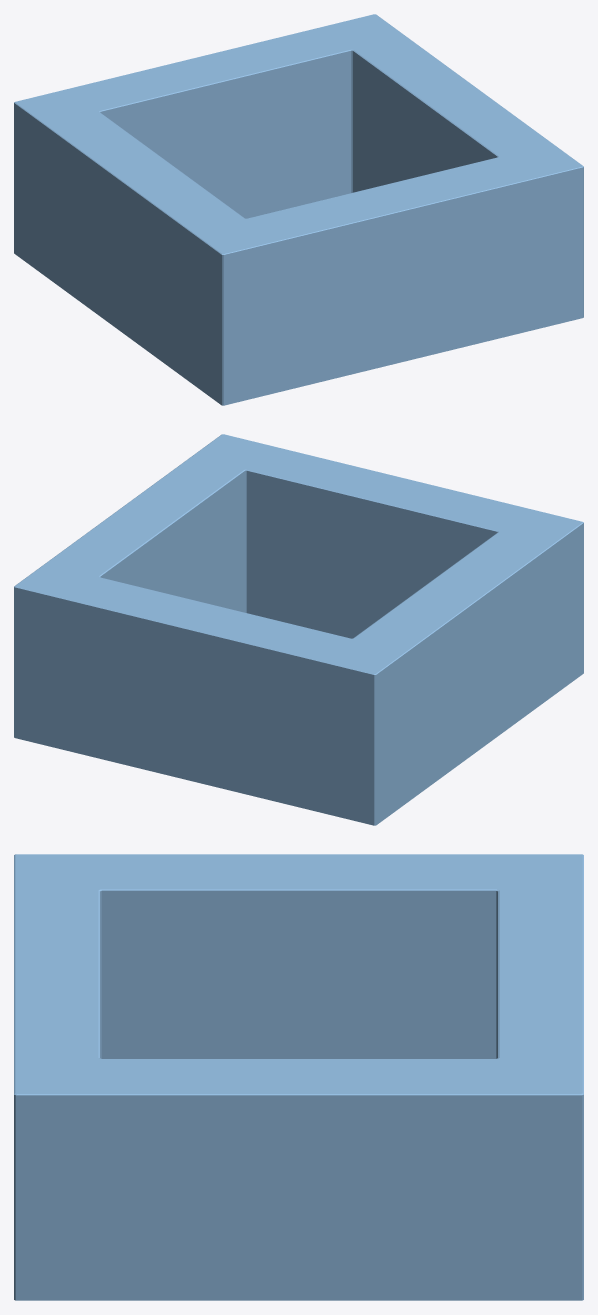
The model's file is BoxAnimatedSmall.glb.
The picture shows the model from 3 angles, top to bottom: view 1: azimuth 30°, elevation 25°; view 2: azimuth 150°, elevation 25°; view 3: azimuth 270°, elevation 25°; orthographic projection. The views are drawn at different scales.
Visible parts, largest first — view 1: outer_box; view 2: outer_box; view 3: outer_box.
Boxes of the visible parts, bbox=[...] form: outer_box: bbox=[14, 14, 583, 405]; outer_box: bbox=[14, 434, 583, 825]; outer_box: bbox=[14, 854, 583, 1300].
Bounding box in the file's own units: 0.5 × 0.2 × 0.5.
